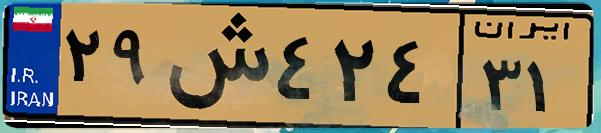1: (525, 38, 570, 115)
2: (330, 28, 385, 110), (57, 26, 110, 100)
3: (475, 38, 525, 113)
4: (270, 28, 330, 110), (385, 28, 445, 110)
9: (110, 28, 158, 98)
ش: (158, 12, 270, 120)
